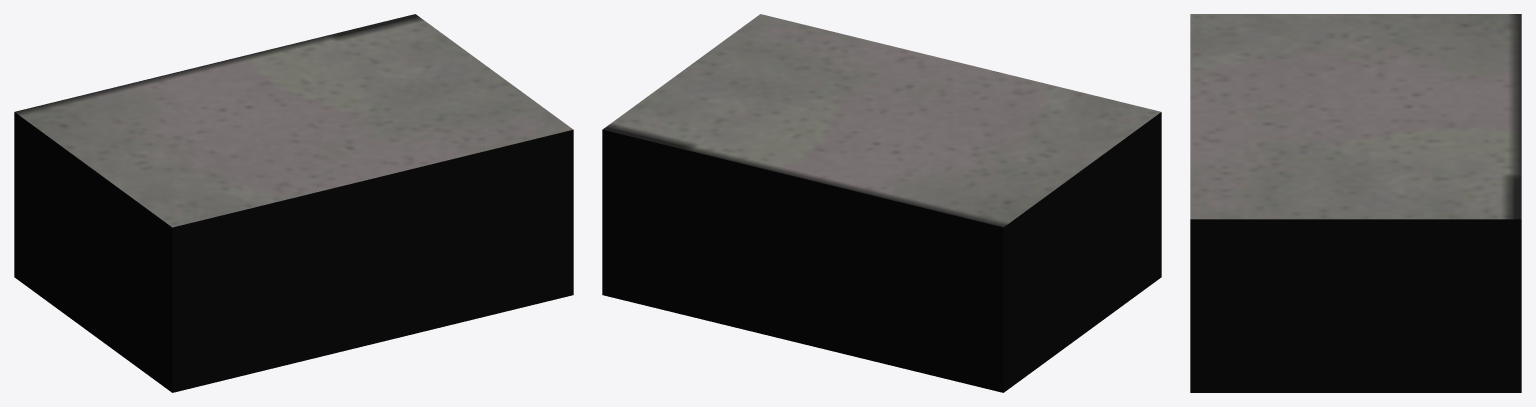
The model's file is ammo_box_9mm.fbx.
3 views of the same model, side by side, from view 1: azimuth 30°, elevation 25°; view 2: azimuth 150°, elevation 25°; view 3: azimuth 270°, elevation 25° (orthographic). The views are drawn at different scales.
Visible parts, largest first — view 1: ammo_box_9mm, ammo_box_9mm_lid; view 2: ammo_box_9mm, ammo_box_9mm_lid; view 3: ammo_box_9mm_lid, ammo_box_9mm.
Part boxes in pixels (x1,y1,x2,y2): ammo_box_9mm: (14,119,573,392); ammo_box_9mm_lid: (14,14,573,234); ammo_box_9mm: (602,119,1161,392); ammo_box_9mm_lid: (602,14,1161,234); ammo_box_9mm_lid: (1190,14,1521,227); ammo_box_9mm: (1190,227,1521,392).
Size of the model in its own units: 0.085 by 0.0335 by 0.058.
